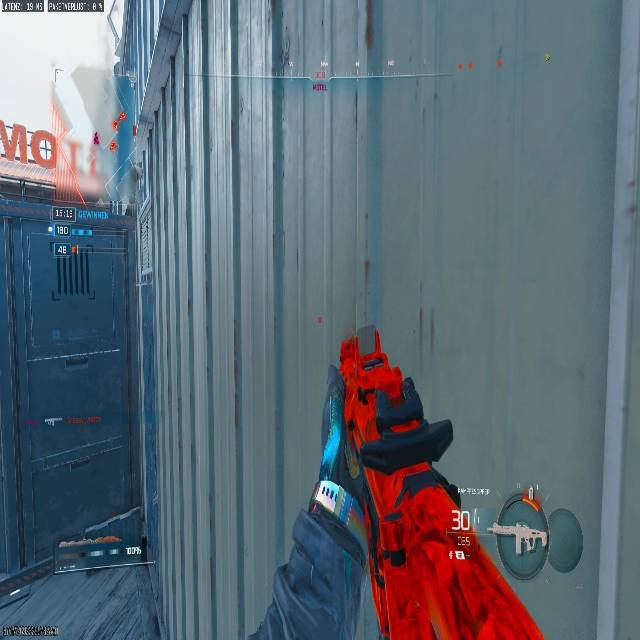head: (338, 326, 384, 371)
